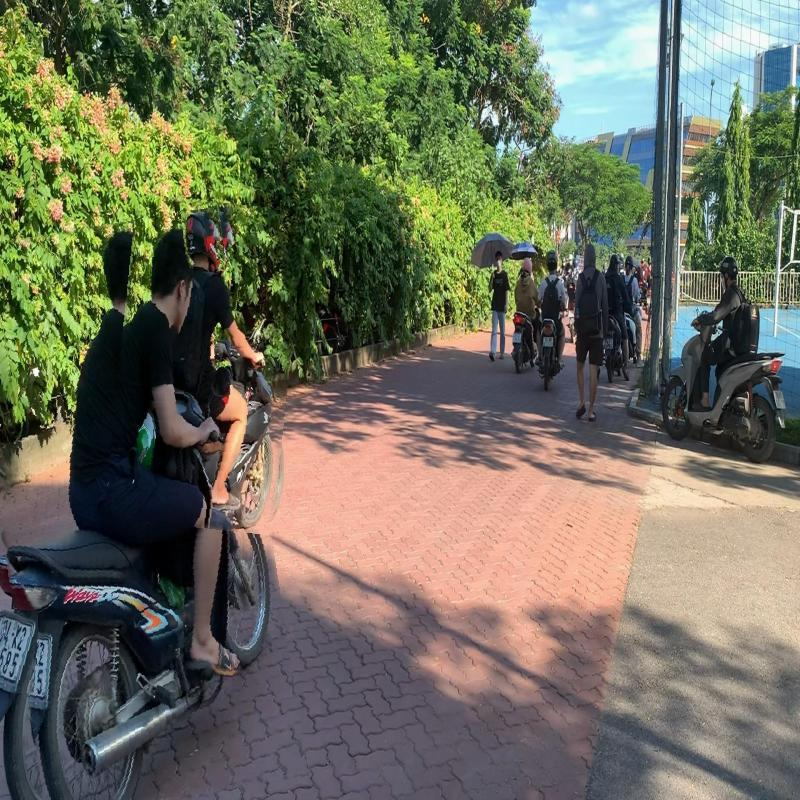helmet: (183, 208, 224, 274)
licenseplate: (0, 608, 37, 692)
motorcyclist: (0, 215, 287, 800), (111, 198, 298, 532)
nohelmet: (136, 230, 193, 326)
